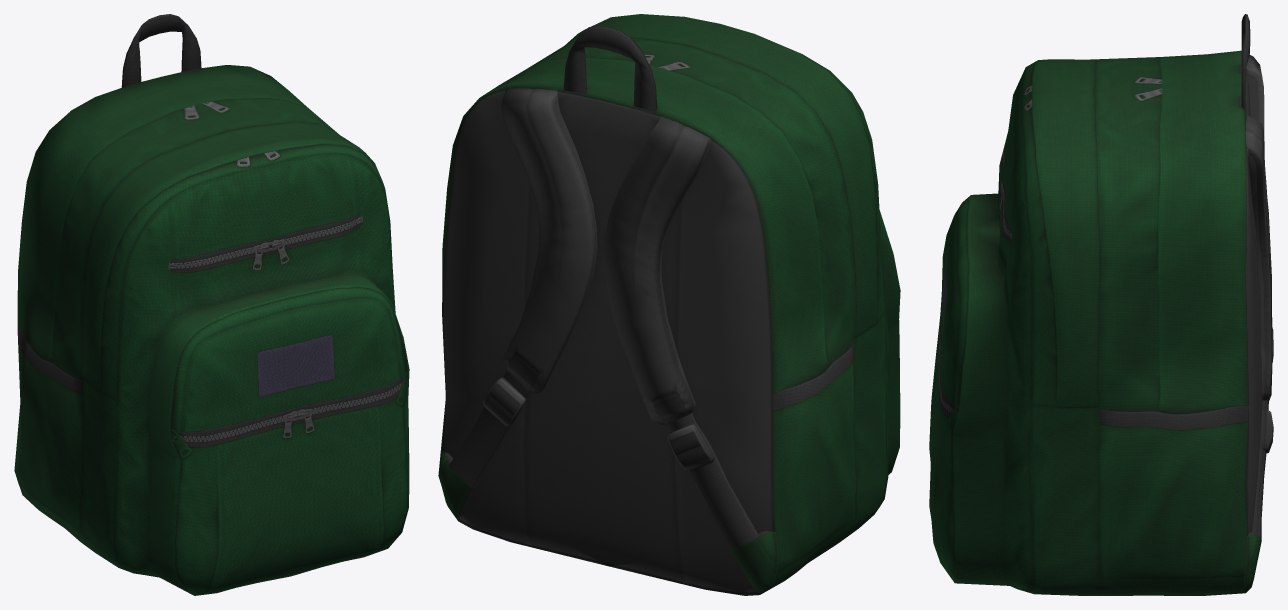
Rendered from backpack.dae.
3 views of the same model, side by side, from view 1: azimuth 30°, elevation 25°; view 2: azimuth 150°, elevation 25°; view 3: azimuth 270°, elevation 25° (orthographic). The views are drawn at different scales.
Visible parts, largest first — view 1: Backpack; view 2: Backpack; view 3: Backpack.
Part boxes in pixels (<box>): Backpack: <box>14,14,409,595</box>; Backpack: <box>438,14,900,595</box>; Backpack: <box>929,14,1273,595</box>.
Size of the model in its own units: 32.84 by 28.65 by 47.43.
1 material, 1 textured.
